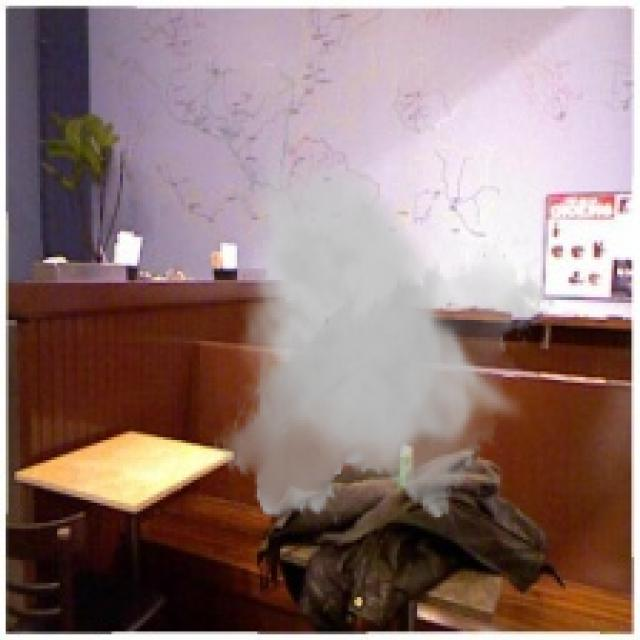smoke: (212, 140, 557, 529)
